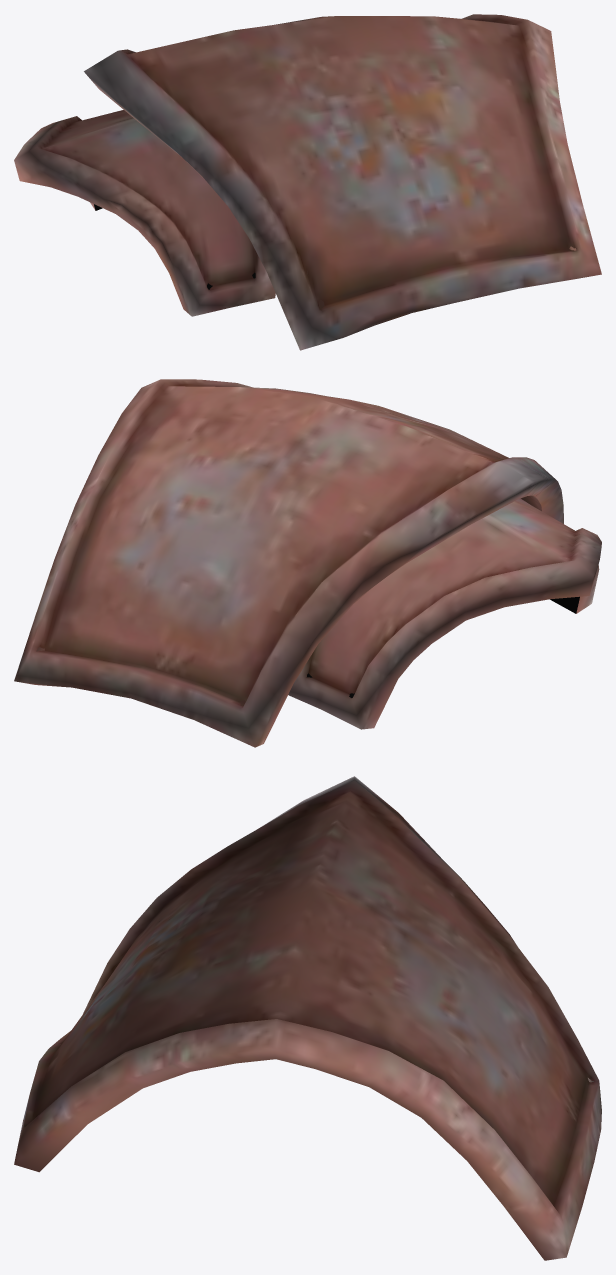
3 views of the same model, one above another, from view 1: azimuth 30°, elevation 25°; view 2: azimuth 150°, elevation 25°; view 3: azimuth 270°, elevation 25° (orthographic). The views are drawn at different scales.
Visible parts, largest first — view 1: SM_PropPauldron_LOD0; view 2: SM_PropPauldron_LOD0; view 3: SM_PropPauldron_LOD0.
Part boxes in pixels (x1,y1,x2,y2): SM_PropPauldron_LOD0: (14,14,601,350); SM_PropPauldron_LOD0: (14,379,601,747); SM_PropPauldron_LOD0: (14,776,601,1260).
Size of the model in its own units: 0.2836 by 0.1398 by 0.2658.
1 material, 1 textured.
